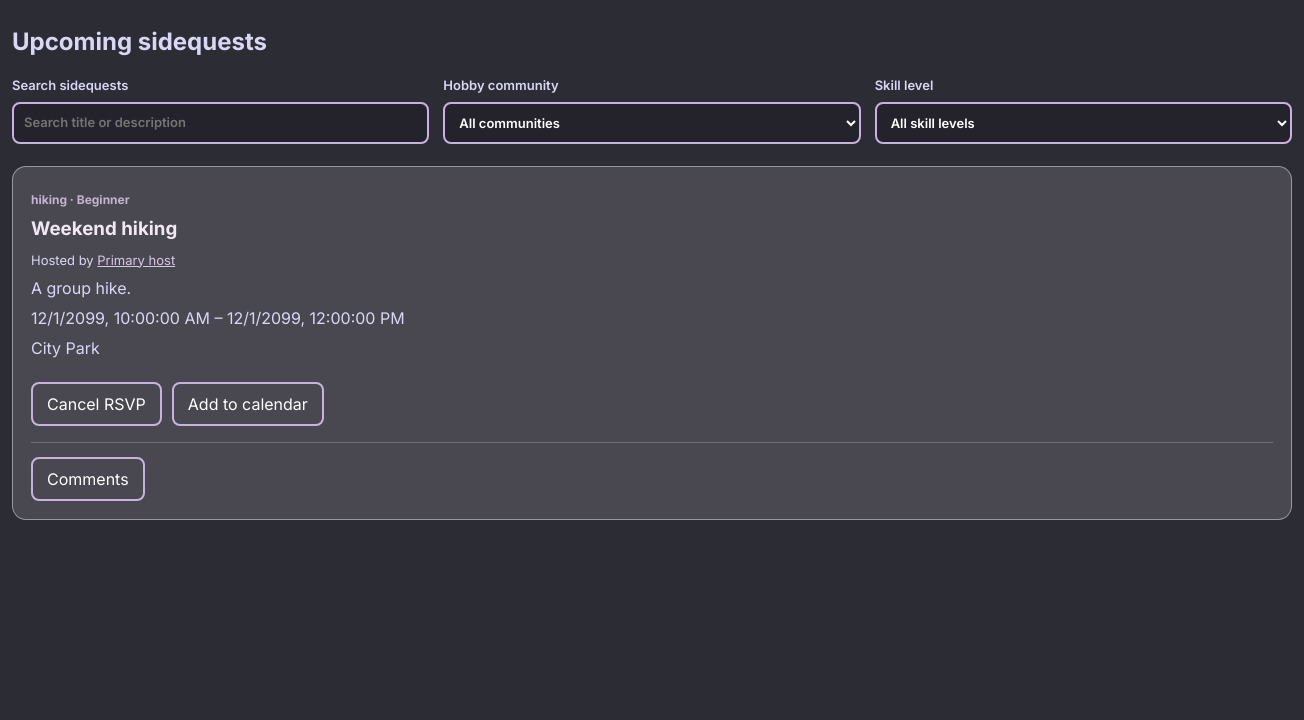
it: cancelling an RSVP removes the calendar action without contacting Google
This screenshot has width=1304, height=720.
Click the button "Cancel RSVP".
click(96, 404)  # box [31,382,162,426]
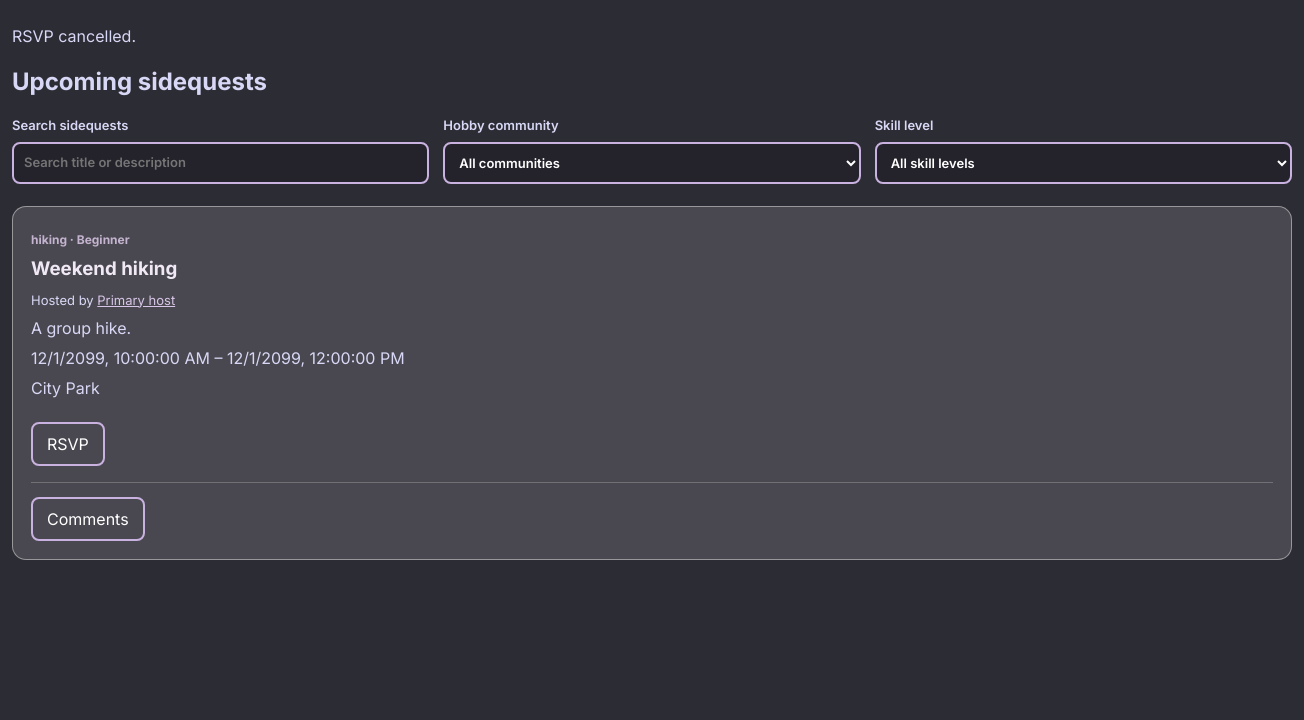
Expected: the button "RSVP" is shown, [31,422,105,466]
Now the button "Add to calendar" is gone
